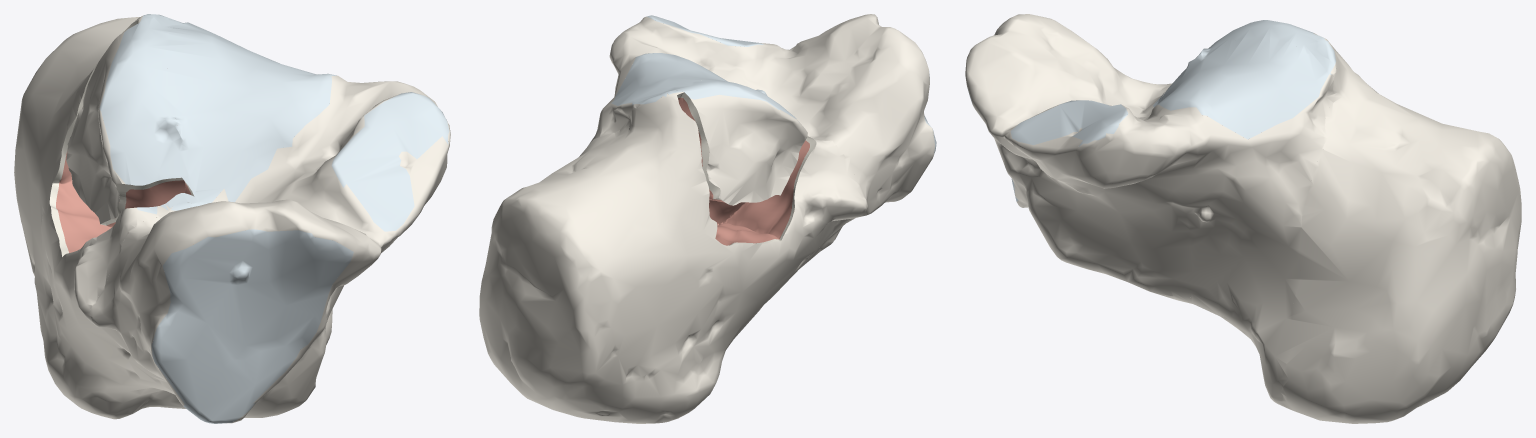
File: S-IIA_young.glb
3 renders of one model, left to right at view 1: azimuth 30°, elevation 25°; view 2: azimuth 150°, elevation 25°; view 3: azimuth 270°, elevation 25°, orthographic. The views are drawn at different scales.
Visible parts, largest first — view 1: calcaneus: sustentacular fragment, calcaneus: tuberosity, calcaneus: depressed lateral joint fragment; view 2: calcaneus: tuberosity, calcaneus: sustentacular fragment, calcaneus: depressed lateral joint fragment; view 3: calcaneus: sustentacular fragment, calcaneus: tuberosity, calcaneus: depressed lateral joint fragment.
Boxes of the visible parts, x1,y1,x2,y2 form: calcaneus: sustentacular fragment: (90, 18, 450, 423); calcaneus: tuberosity: (14, 14, 332, 419); calcaneus: depressed lateral joint fragment: (66, 18, 190, 227); calcaneus: tuberosity: (479, 90, 867, 423); calcaneus: sustentacular fragment: (589, 14, 936, 259); calcaneus: depressed lateral joint fragment: (661, 79, 807, 205); calcaneus: sustentacular fragment: (965, 14, 1335, 407); calcaneus: tuberosity: (1155, 33, 1521, 423); calcaneus: depressed lateral joint fragment: (1170, 20, 1317, 85).
Bounding box in the file's own units: 0.0475 × 0.0513 × 0.0757.
